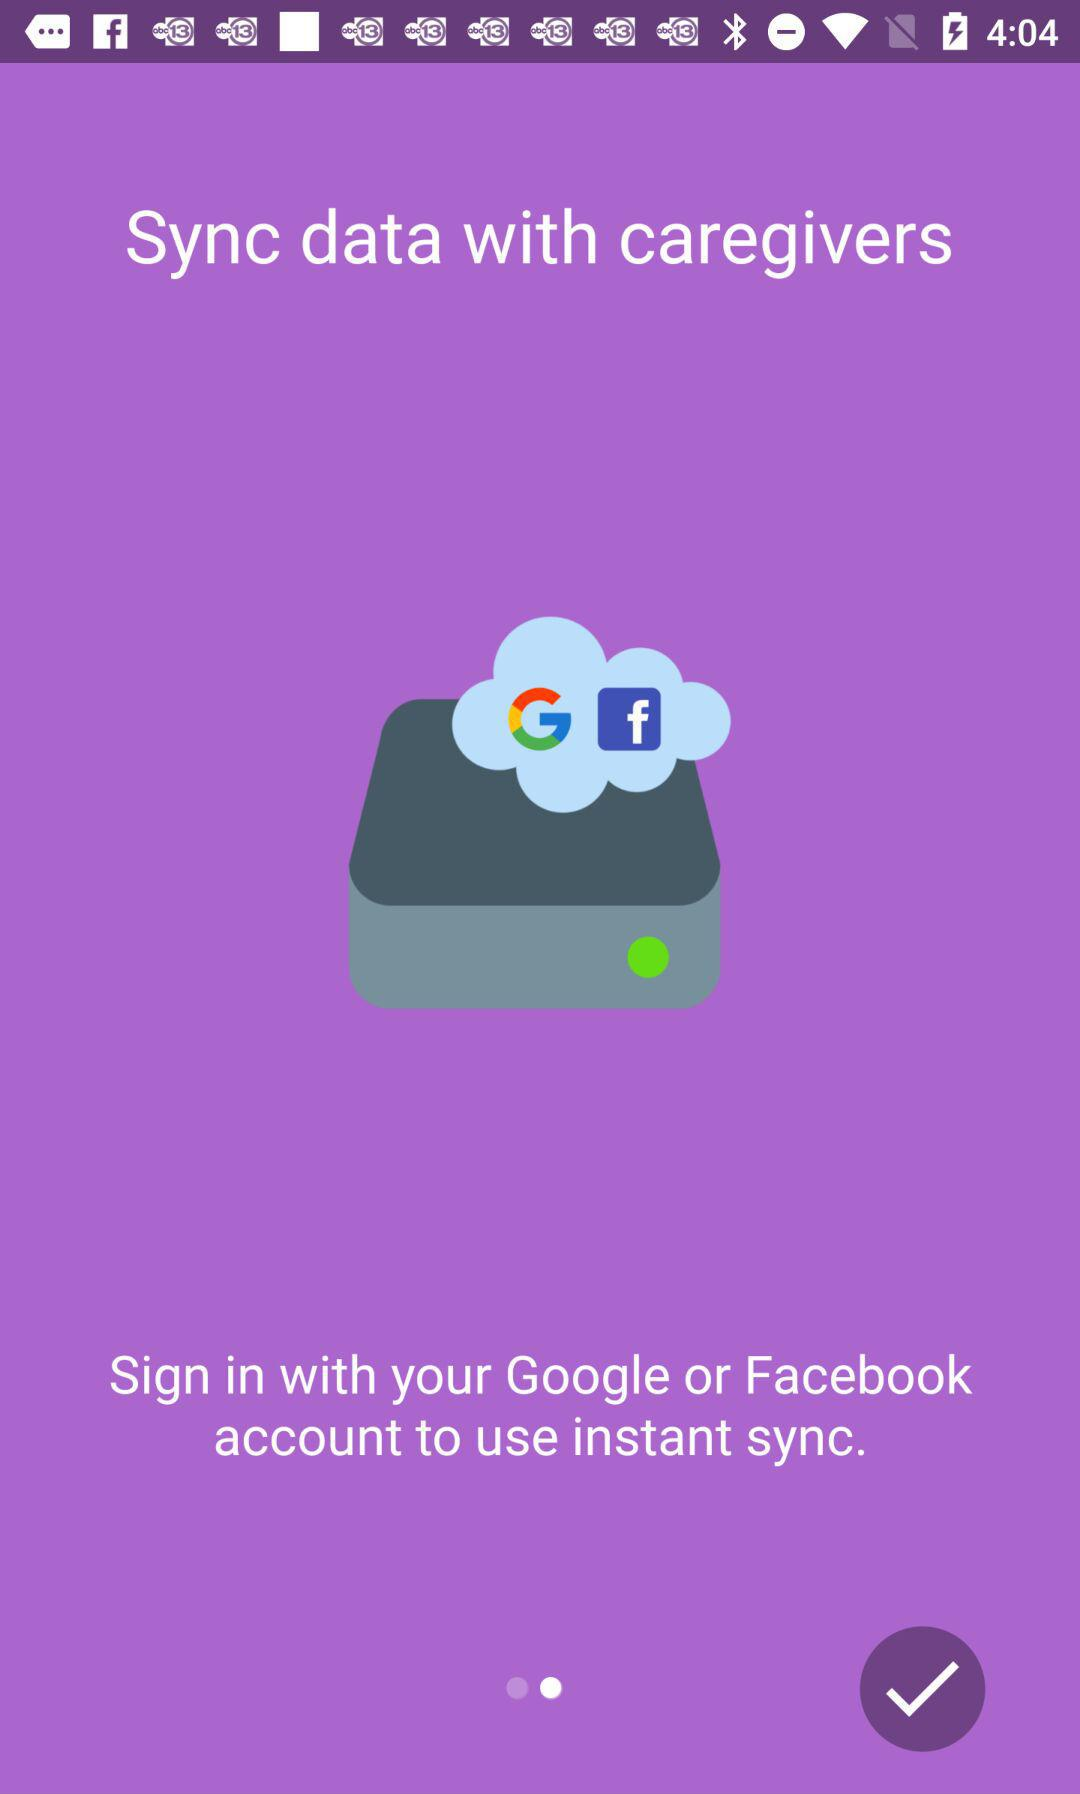Icon: (858, 1625, 986, 1753)
Image: (348, 616, 733, 1010)
PageIndicator: (505, 1675, 562, 1702)
Text: (110, 1352, 974, 1469), (127, 208, 953, 282)
UpperTaskBar: (1, 1, 1080, 64)
